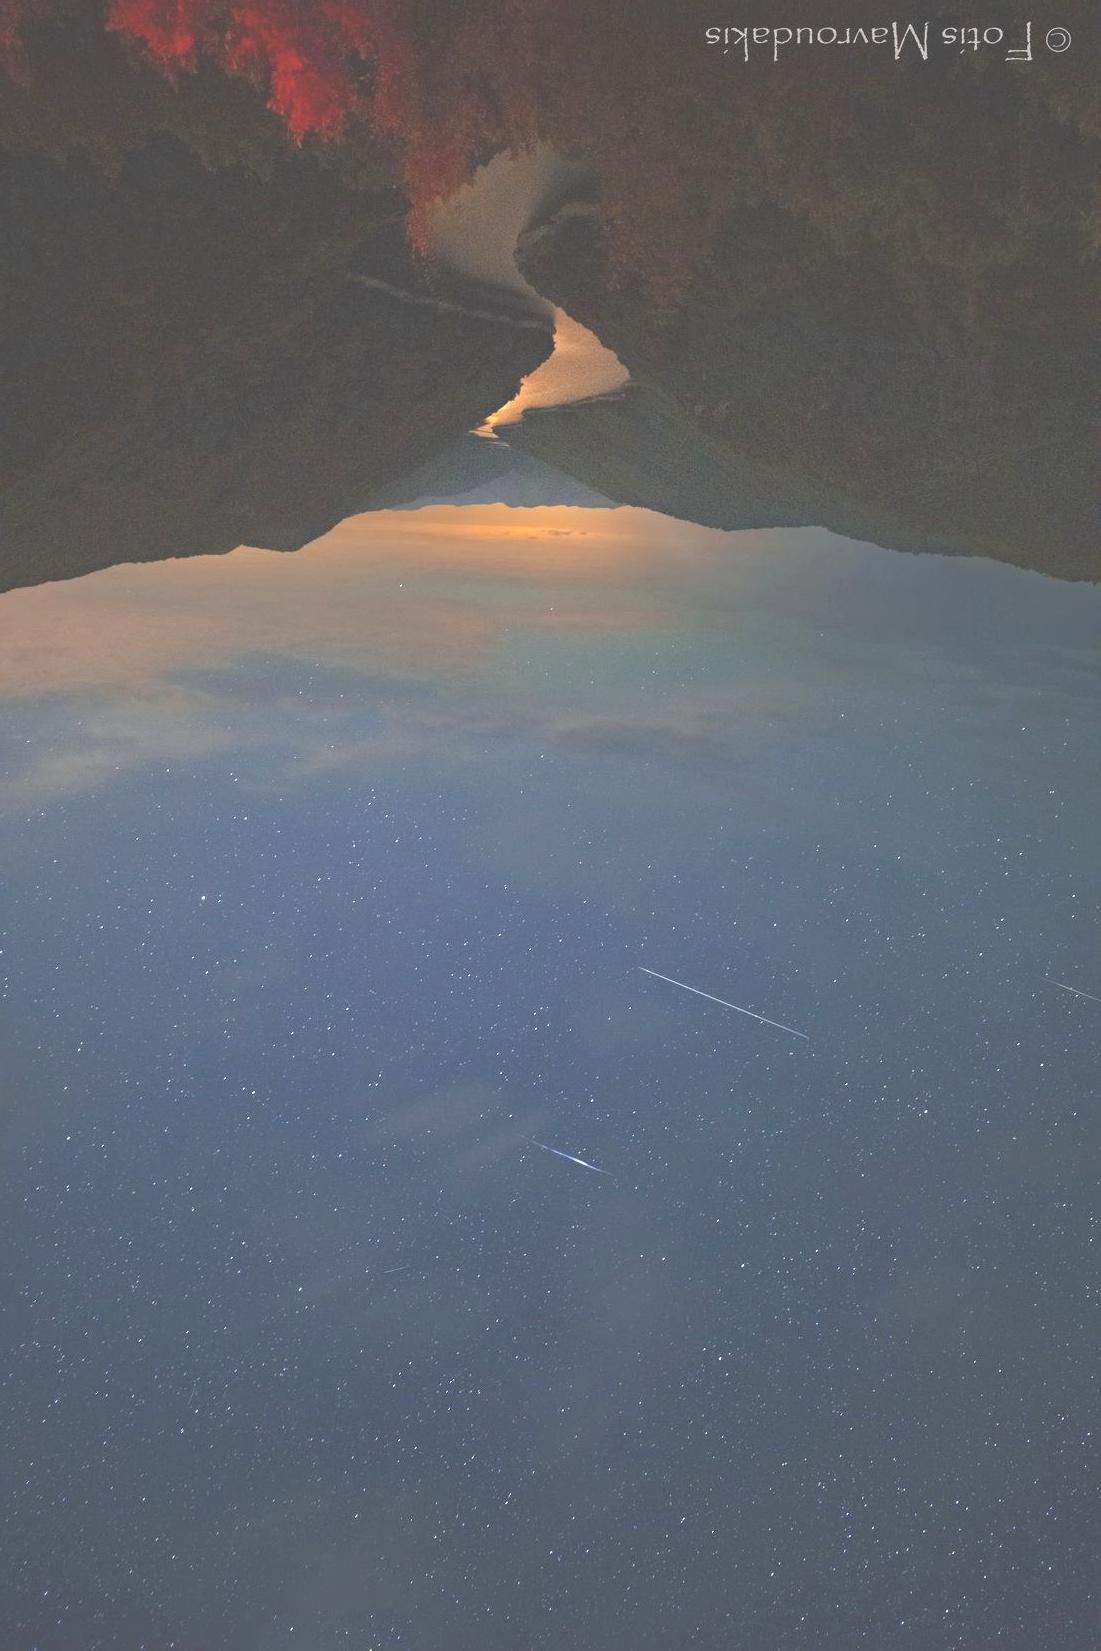meteorite: (628, 961, 826, 1053), (512, 1110, 649, 1224), (1049, 950, 1101, 1001)
